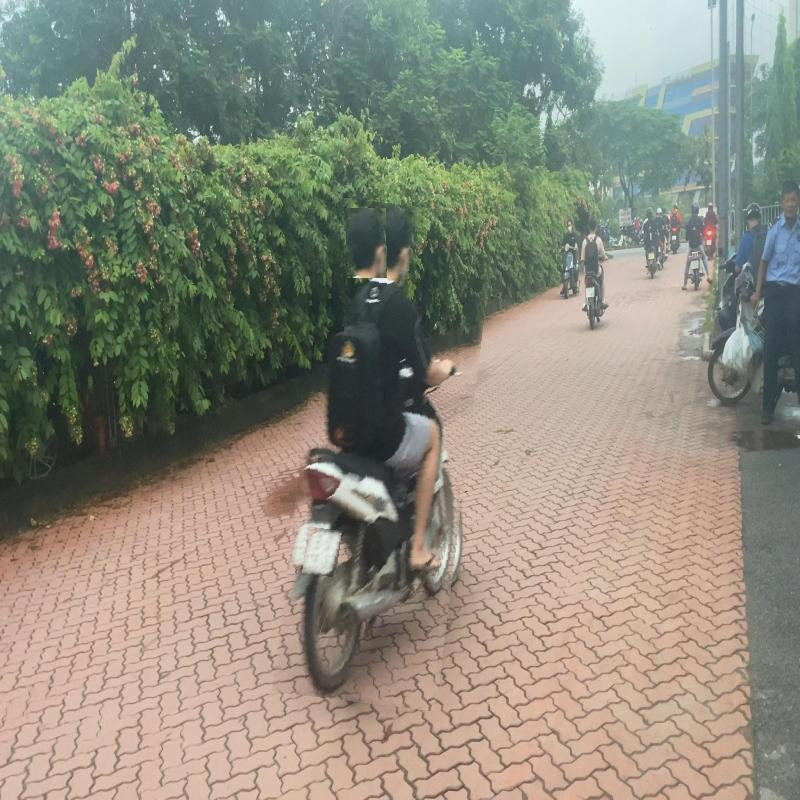licenseplate: (304, 527, 340, 576)
motorcyclist: (288, 200, 482, 707)
nohelmet: (346, 208, 388, 278)
